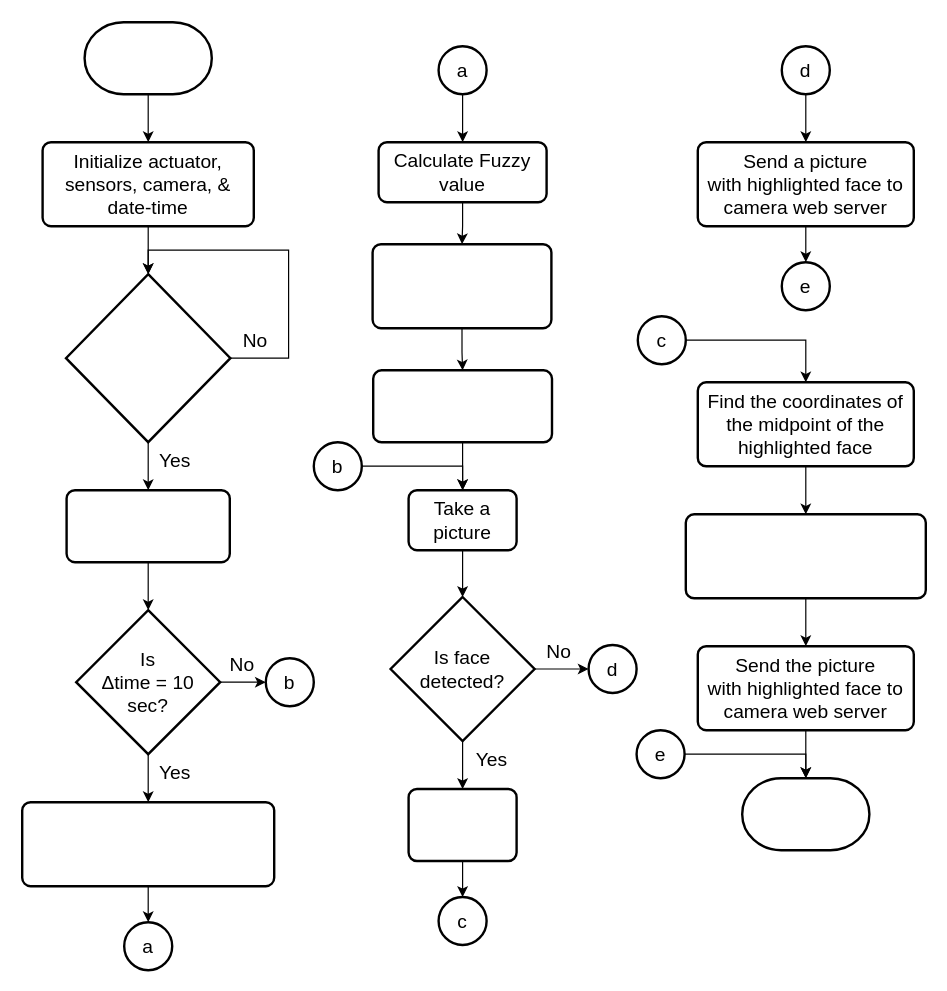
This 947x991 diagram has some shape labels left out. The centre of each missing label's shape, as x and y in pixels:
"Data acquisition from temperature, humidity, and PM2.5 sensors" belongs at pixel 147 843.
"END" belongs at pixel 805 813.
"Highlight the face" belongs at pixel 462 824.
"Initialize camera web server" belongs at pixel 147 525.
"Is connected to WiFi?" belongs at pixel 147 357.
"Send data to the database server" belongs at pixel 462 406.
"Set fan and heater based on Fuzzy calculation value" belongs at pixel 461 285.
"Set the servo according to the highlighted face coordinates" belongs at pixel 805 556.
"START" belongs at pixel 147 57.
